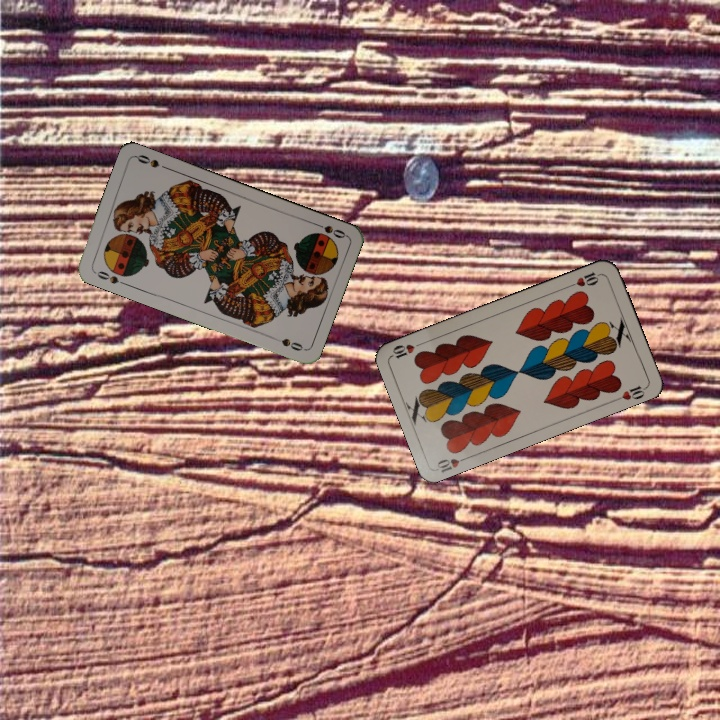H10: (565, 267, 604, 290), (433, 452, 472, 475)
SO: (309, 218, 348, 241), (90, 266, 129, 288)
